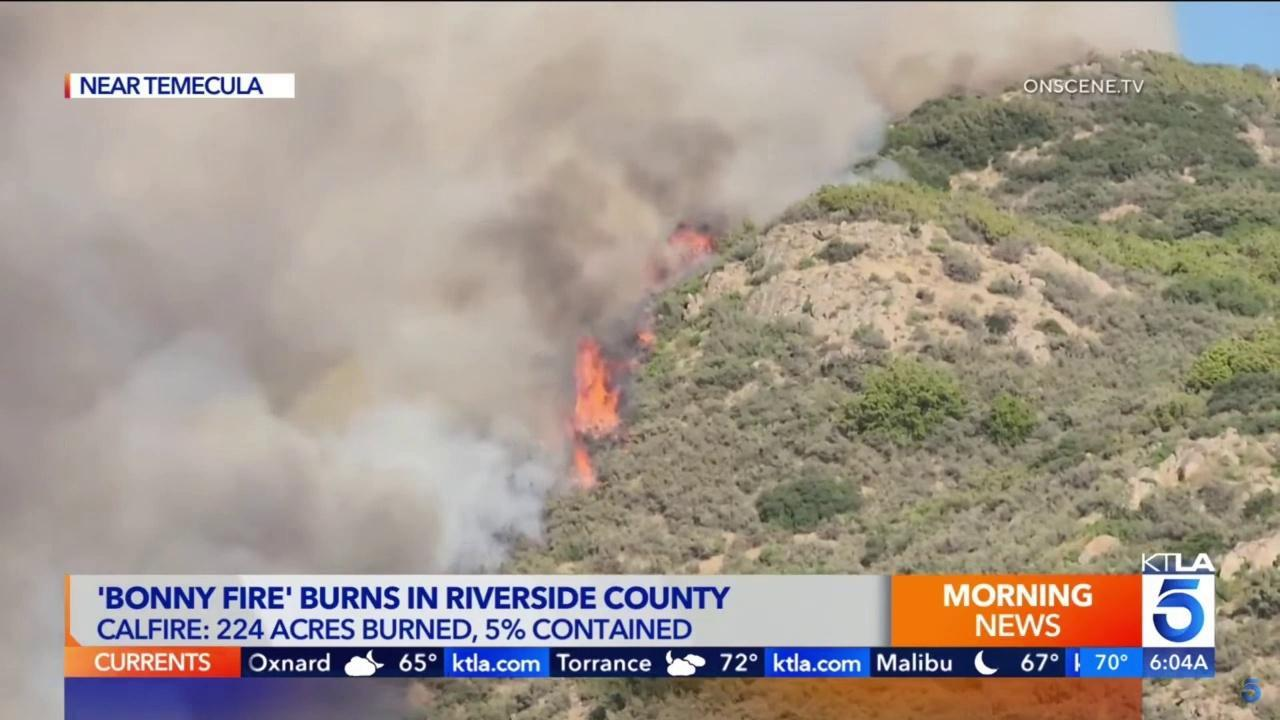fire: (558, 330, 630, 494), (641, 221, 718, 287), (633, 329, 658, 350)
smoke: (0, 1, 1184, 720)
